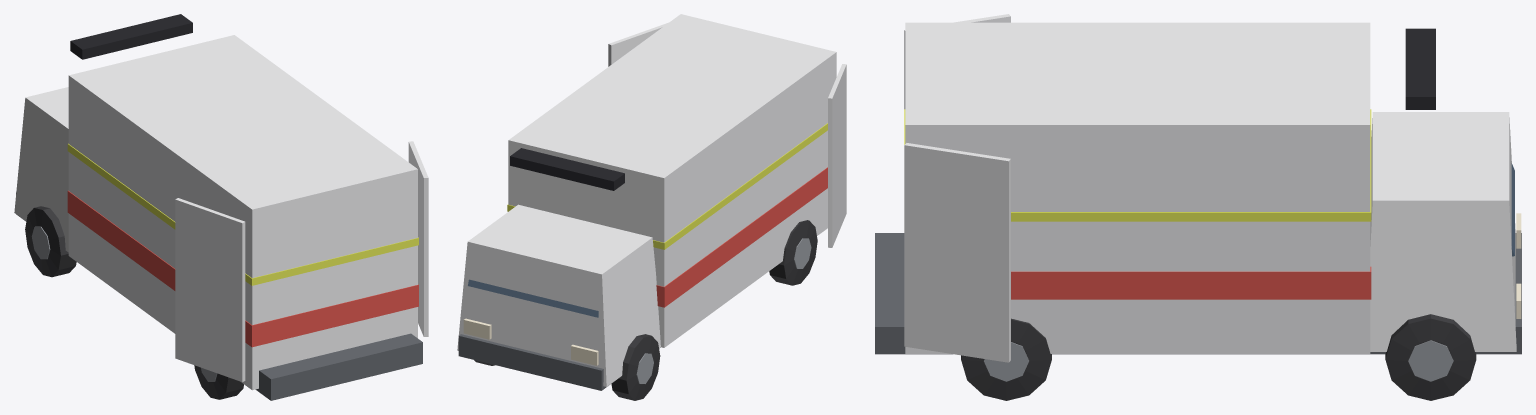
File: Ambulance.obj
3 views of the same model, side by side, from view 1: azimuth 30°, elevation 25°; view 2: azimuth 150°, elevation 25°; view 3: azimuth 270°, elevation 25° (orthographic). The views are drawn at different scales.
Visible parts, largest first — view 1: Ambulance; view 2: Ambulance; view 3: Ambulance.
Boxes of the visible parts, left/top/right/bottom form: Ambulance: left=14, top=14, right=428, bottom=400; Ambulance: left=457, top=14, right=846, bottom=400; Ambulance: left=875, top=14, right=1521, bottom=400.
Size of the model in its own units: 3.45 by 3.12 by 6.4.
1 material, 1 textured.
